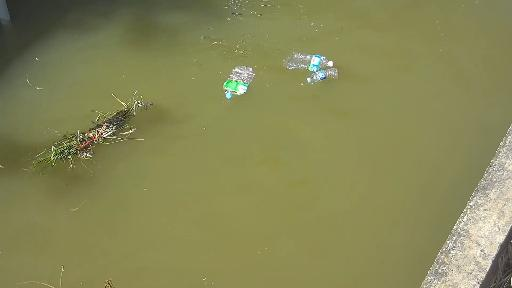plastic: (274, 49, 336, 70), (212, 66, 253, 96), (312, 66, 345, 83)
twig: (33, 89, 163, 178), (23, 264, 157, 288)
